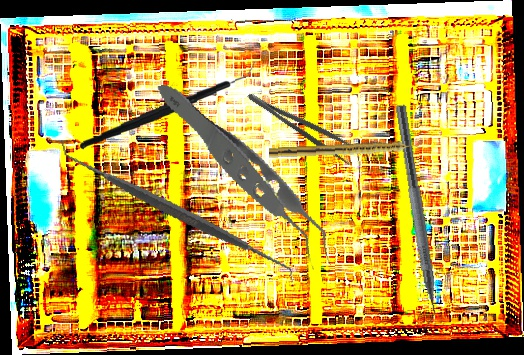Chopper: (76, 59, 261, 150), (379, 103, 447, 338)
Dressing Forceps: (245, 82, 360, 167)
Handpiece: (268, 140, 421, 161)
Spatula Surgical: (60, 96, 294, 326)
Tissue Forceps: (154, 55, 336, 299)
